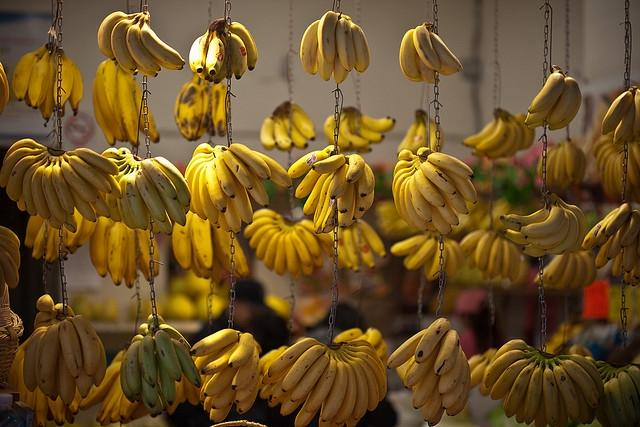banana: (96, 58, 128, 143), (341, 347, 387, 402), (140, 13, 186, 66), (340, 350, 379, 412), (554, 358, 600, 410), (268, 337, 326, 377), (556, 354, 604, 400), (66, 315, 101, 377), (338, 348, 368, 420), (12, 42, 48, 102), (550, 193, 586, 253), (125, 14, 162, 72), (6, 151, 48, 202), (149, 156, 191, 207), (490, 355, 537, 400), (545, 194, 579, 256), (80, 361, 122, 411), (290, 350, 330, 402), (282, 344, 326, 391), (98, 11, 140, 60), (505, 358, 539, 418), (520, 195, 566, 239), (116, 64, 140, 148), (404, 337, 442, 389), (306, 352, 338, 413), (550, 360, 580, 424), (64, 154, 112, 194), (0, 148, 48, 188), (174, 72, 202, 140), (111, 12, 143, 71), (322, 350, 348, 422), (212, 227, 248, 278), (58, 156, 96, 204), (484, 350, 532, 388), (432, 163, 476, 204), (185, 154, 215, 214), (135, 164, 166, 222), (546, 72, 580, 124), (426, 26, 463, 73), (226, 143, 272, 180), (23, 153, 50, 216), (387, 329, 428, 370), (39, 44, 59, 128), (415, 318, 451, 364), (499, 201, 552, 232), (92, 77, 116, 145), (42, 159, 67, 224), (528, 69, 564, 114), (225, 21, 258, 70), (525, 213, 569, 249), (252, 150, 292, 189), (89, 216, 114, 278), (23, 330, 48, 392), (602, 88, 634, 136), (346, 345, 387, 382), (141, 158, 177, 200), (336, 352, 357, 424), (38, 320, 62, 383), (192, 157, 216, 220), (442, 350, 467, 410), (172, 338, 202, 388), (125, 166, 148, 231), (602, 374, 630, 427), (105, 164, 130, 222), (58, 318, 82, 378), (155, 330, 182, 383), (548, 89, 582, 131), (413, 22, 442, 71), (259, 101, 288, 150), (62, 50, 83, 117), (67, 148, 119, 175), (446, 360, 471, 416), (412, 360, 440, 410), (190, 212, 214, 270), (346, 15, 370, 73), (116, 166, 138, 229), (279, 104, 309, 150), (402, 233, 438, 271), (201, 340, 240, 375), (222, 28, 248, 80), (190, 328, 238, 356), (108, 220, 128, 287), (303, 172, 333, 216), (172, 210, 194, 270), (476, 111, 508, 152), (28, 49, 49, 110), (524, 361, 544, 425), (222, 150, 254, 190), (52, 50, 74, 108), (618, 368, 640, 426), (498, 109, 524, 158), (404, 178, 428, 231), (34, 333, 54, 396), (462, 114, 499, 148), (52, 158, 74, 215), (438, 344, 462, 396), (491, 339, 539, 365), (428, 152, 474, 179), (7, 336, 30, 390), (285, 101, 316, 141), (488, 116, 516, 160), (232, 346, 260, 390), (95, 374, 120, 423), (434, 329, 460, 376), (230, 172, 253, 225), (414, 170, 446, 208), (56, 346, 76, 406), (199, 164, 219, 224), (300, 19, 321, 76), (31, 157, 50, 220), (394, 168, 416, 222), (335, 15, 356, 71), (328, 224, 354, 269), (338, 114, 372, 148), (408, 174, 432, 222), (205, 162, 228, 212), (3, 138, 44, 166), (288, 150, 329, 178), (235, 358, 261, 402), (314, 171, 334, 228), (317, 10, 338, 64), (421, 162, 456, 194), (82, 178, 110, 218), (434, 183, 469, 215), (389, 231, 432, 257), (396, 110, 419, 158), (67, 184, 96, 222), (157, 349, 176, 406), (211, 80, 230, 137), (204, 367, 240, 397), (323, 115, 352, 152), (296, 219, 334, 247), (138, 335, 158, 388), (543, 360, 559, 426), (399, 28, 420, 78), (190, 29, 213, 74), (614, 97, 636, 144), (524, 97, 559, 126), (144, 201, 173, 236), (76, 202, 98, 248), (214, 152, 236, 198), (245, 166, 269, 208), (361, 218, 386, 258), (228, 332, 255, 369), (314, 179, 332, 234), (508, 112, 534, 150), (255, 226, 284, 260), (426, 238, 448, 282), (194, 80, 210, 140), (125, 340, 142, 396), (294, 223, 321, 258), (423, 375, 443, 422), (582, 218, 610, 251), (421, 110, 443, 152), (248, 223, 282, 250), (355, 112, 385, 142), (205, 30, 225, 75), (280, 386, 309, 417), (554, 252, 577, 291), (160, 324, 192, 352), (460, 228, 492, 256), (598, 145, 622, 182), (236, 378, 260, 415), (243, 216, 280, 240), (606, 203, 632, 237), (64, 207, 85, 249), (290, 227, 312, 267), (476, 230, 498, 270), (268, 366, 292, 402), (210, 392, 237, 424), (342, 224, 360, 272), (406, 116, 428, 155), (138, 229, 154, 282), (606, 220, 627, 260), (264, 229, 284, 271), (442, 234, 466, 269), (164, 374, 184, 416), (0, 246, 19, 290), (470, 349, 490, 390), (31, 220, 51, 260), (274, 112, 295, 150), (428, 202, 452, 235), (284, 227, 300, 276), (392, 165, 415, 199), (296, 168, 322, 198), (620, 209, 640, 248), (576, 250, 597, 287), (487, 230, 503, 278), (567, 252, 587, 290), (596, 373, 610, 427), (262, 346, 288, 375), (24, 213, 46, 247), (534, 256, 560, 284), (184, 152, 213, 177), (224, 193, 242, 233), (329, 164, 349, 200), (361, 113, 397, 133), (144, 229, 159, 276), (564, 140, 580, 184), (212, 381, 236, 410), (617, 151, 632, 197), (316, 44, 334, 82), (332, 46, 350, 84), (312, 154, 346, 174), (595, 214, 615, 248), (194, 349, 220, 375), (119, 392, 143, 420), (548, 252, 569, 284), (262, 364, 294, 385), (546, 142, 561, 186), (274, 228, 288, 275), (442, 237, 458, 278), (294, 403, 321, 427), (436, 198, 459, 226), (604, 151, 618, 197), (47, 394, 67, 426), (344, 154, 365, 184), (141, 372, 158, 409), (623, 234, 639, 273), (120, 351, 133, 399), (192, 248, 212, 279), (596, 235, 614, 269), (34, 386, 49, 426), (358, 163, 375, 198), (74, 366, 92, 398), (36, 294, 62, 316), (627, 142, 639, 188), (337, 182, 354, 214), (554, 141, 566, 186), (260, 376, 282, 400), (110, 341, 132, 365), (592, 136, 614, 160), (140, 386, 158, 415), (534, 390, 548, 427), (538, 146, 554, 178), (555, 387, 568, 426), (352, 184, 366, 220), (501, 238, 513, 280), (212, 254, 228, 285), (318, 396, 334, 427), (508, 241, 520, 282), (342, 339, 377, 353), (428, 401, 446, 427), (333, 328, 362, 344), (0, 226, 20, 249), (322, 204, 337, 234), (610, 153, 620, 197), (68, 386, 82, 416), (468, 351, 488, 372), (504, 229, 530, 245), (54, 229, 68, 258), (200, 374, 214, 403), (147, 314, 166, 335), (110, 392, 123, 422), (394, 160, 414, 179), (130, 400, 149, 420), (316, 237, 334, 258), (192, 144, 219, 158), (0, 66, 9, 108), (357, 189, 374, 211), (522, 244, 548, 258), (34, 311, 53, 330), (612, 248, 624, 278), (252, 208, 282, 220), (516, 392, 527, 424), (352, 221, 362, 256), (633, 86, 639, 143), (628, 366, 639, 396), (101, 147, 125, 160), (422, 254, 434, 278), (398, 150, 419, 162), (48, 212, 62, 229), (630, 260, 638, 287), (301, 262, 314, 278), (416, 148, 436, 156), (138, 323, 150, 336), (600, 366, 612, 379), (225, 59, 232, 80), (597, 364, 611, 374), (332, 417, 345, 427), (131, 334, 144, 344), (624, 271, 631, 286), (637, 230, 640, 258), (596, 360, 606, 364)
